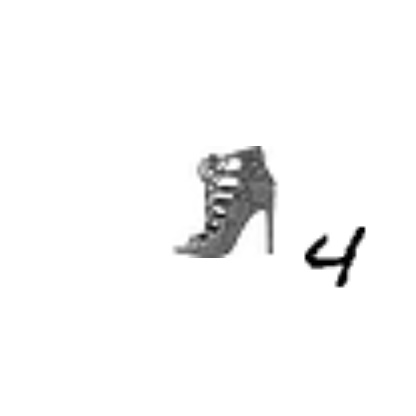0: (64, 141, 120, 197), (370, 31, 412, 73)
5: (243, 225, 299, 281)
9: (51, 219, 135, 303)
Bag: (302, 202, 414, 314), (319, 130, 361, 172)
Pullover: (187, 274, 229, 316)
Sandal: (134, 335, 190, 391)
